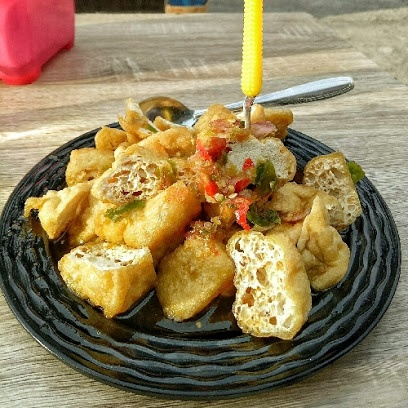tahu_gejrot: (20, 92, 363, 342)
